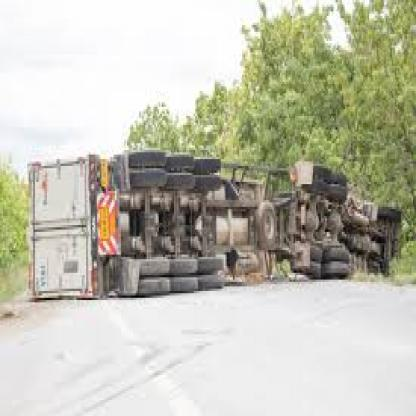accident: (15, 114, 413, 308)
